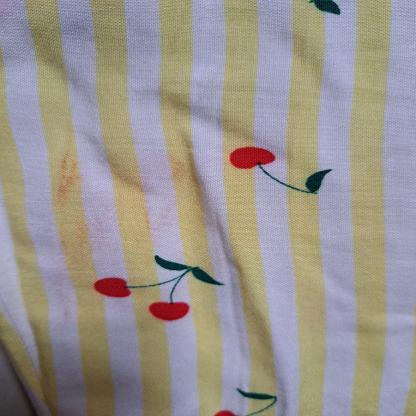spot: (58, 147, 85, 209), (51, 285, 75, 339)
